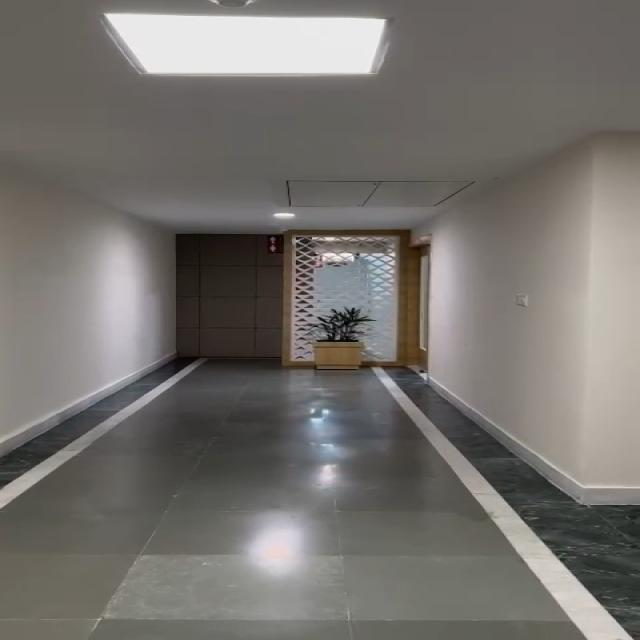door: (192, 232, 434, 372)
floor: (86, 370, 490, 640)
furniture: (308, 317, 386, 374)
wall: (440, 0, 640, 478), (0, 30, 193, 415)
